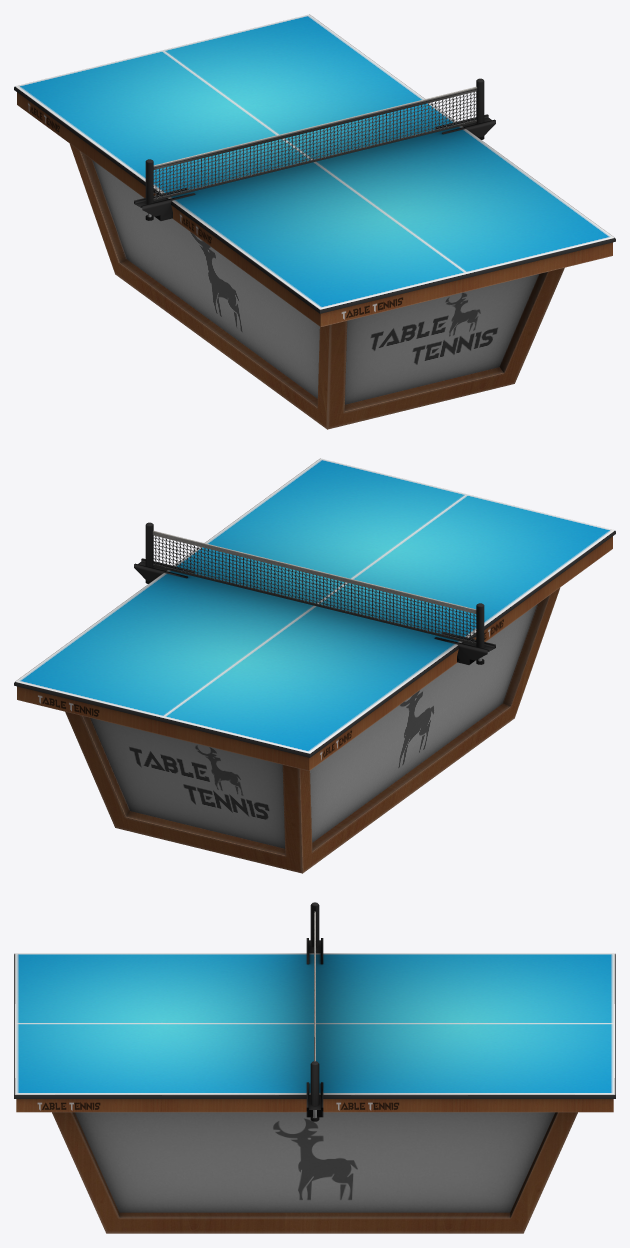
File: Table_6.fbx
The picture shows the model from 3 angles, top to bottom: view 1: azimuth 30°, elevation 25°; view 2: azimuth 150°, elevation 25°; view 3: azimuth 270°, elevation 25°; orthographic projection.
Visible parts, largest first — view 1: Table_6; view 2: Table_6; view 3: Table_6.
Boxes of the visible parts, box(x1,y1,x2,y2) form: Table_6: box(14, 14, 615, 429); Table_6: box(14, 458, 615, 873); Table_6: box(14, 902, 615, 1233).
Bounding box in the file's own units: 182 × 103 × 273.
